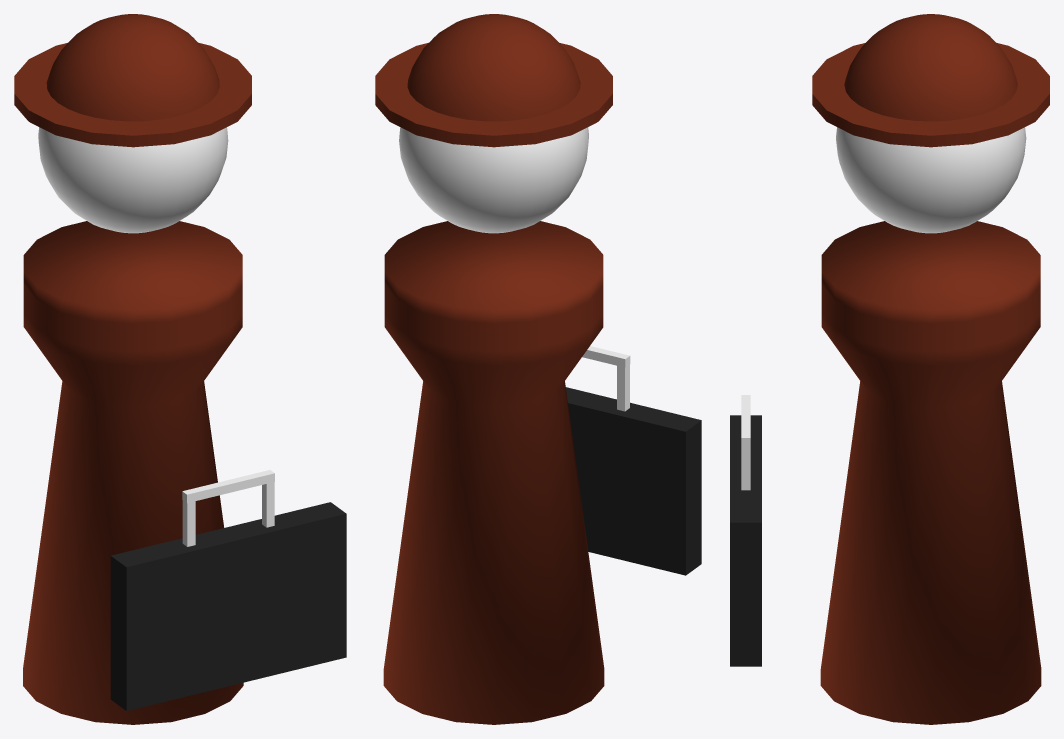
The model's file is figure4.FBX.
The picture shows the model from 3 angles, left to right: view 1: azimuth 30°, elevation 25°; view 2: azimuth 150°, elevation 25°; view 3: azimuth 270°, elevation 25°; orthographic projection.
Parts seen in each view (by area): view 1: Cylinder001, Box001, Sphere002, Sphere001, Cylinder002, Box002, Box003, Box004; view 2: Cylinder001, Box001, Sphere002, Sphere001, Cylinder002, Box002, Box003; view 3: Cylinder001, Sphere002, Sphere001, Cylinder002, Box001, Box002.
Boxes of the visible parts, box(x1,y1,x2,y2) form: Cylinder001: box(23, 221, 243, 724); Box001: box(110, 502, 346, 710); Sphere002: box(46, 14, 219, 121); Sphere001: box(38, 127, 228, 233); Cylinder002: box(14, 42, 251, 147); Box002: box(182, 470, 274, 503); Box003: box(182, 495, 195, 546); Box004: box(262, 482, 274, 527); Cylinder001: box(383, 221, 604, 724); Box001: box(565, 387, 701, 575); Sphere002: box(407, 14, 580, 121); Sphere001: box(399, 127, 588, 233); Cylinder002: box(375, 42, 612, 147); Box002: box(582, 346, 630, 367); Box003: box(617, 360, 629, 411); Cylinder001: box(820, 221, 1041, 724); Sphere002: box(844, 14, 1017, 121); Sphere001: box(836, 127, 1026, 233); Cylinder002: box(812, 43, 1049, 147); Box001: box(730, 415, 761, 666); Box002: box(741, 395, 750, 446).
Size of the model in its own units: 31.5 by 89.67 by 39.66.
